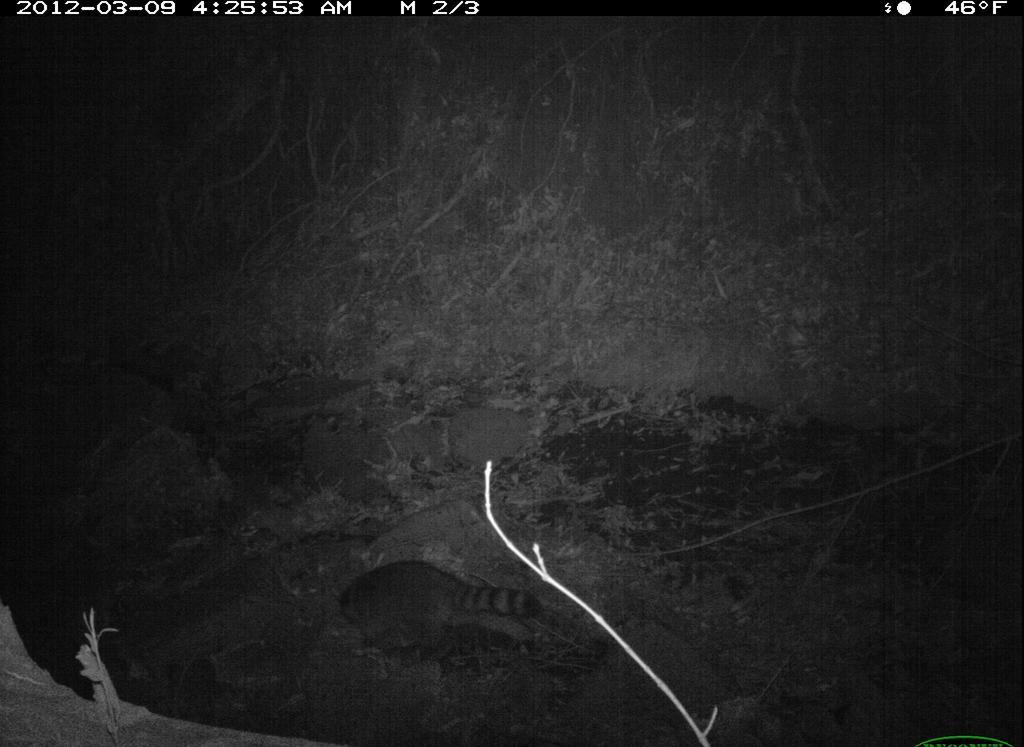raccoon: (329, 556, 553, 658)
